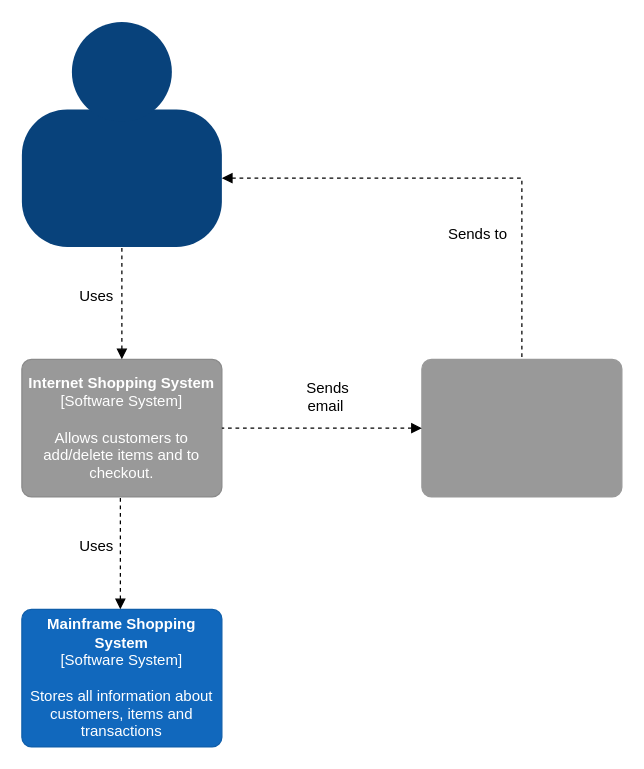
The diagram is 644 pixels wide and 769 high, and some of its shapes have lost their labels. The shapes that lost their labels are listed below. From the top down, each one's centre as x and y in pixels, then its label:
At pixel 121 177: "Shop Customer [Person] A customer of the online shop.".
At pixel 521 427: "E-mail Sytem [Software System] Sends customers newsletters or offers.".
